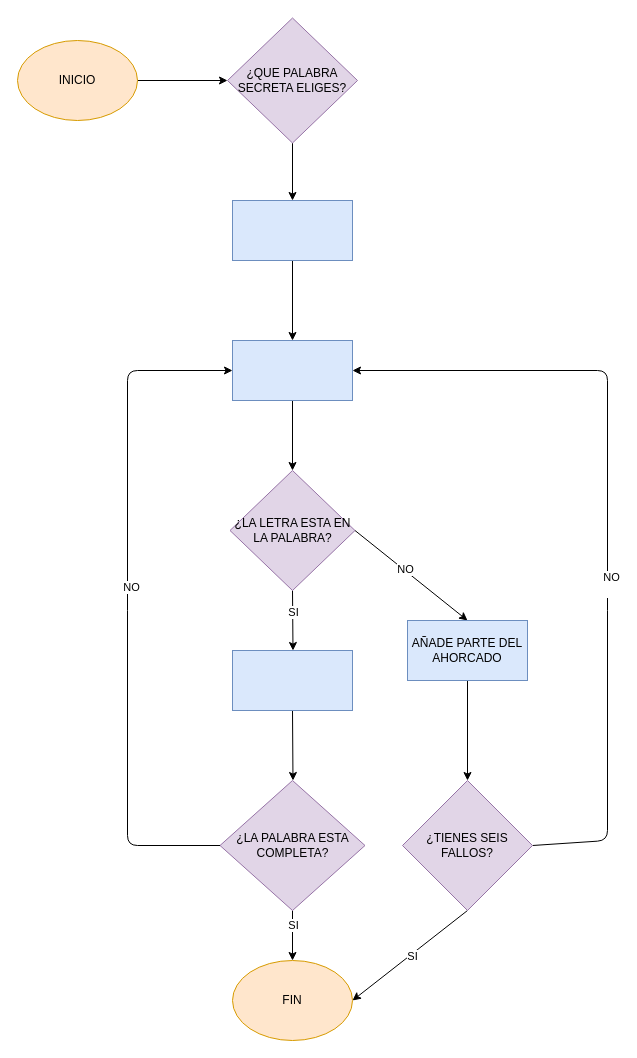
This 637x1058 diagram has some shape labels left out. Each missing label, with the box of its shape:
EL JUGADOR INTRODUCE UNA LETRA: (232, 340, 352, 400)
MOSTRAR GUIONES POR CADA LETRA DE LA PALABRA: (232, 200, 352, 260)
MUESTA LA LETRA EN LA PALABRA: (232, 650, 352, 710)
